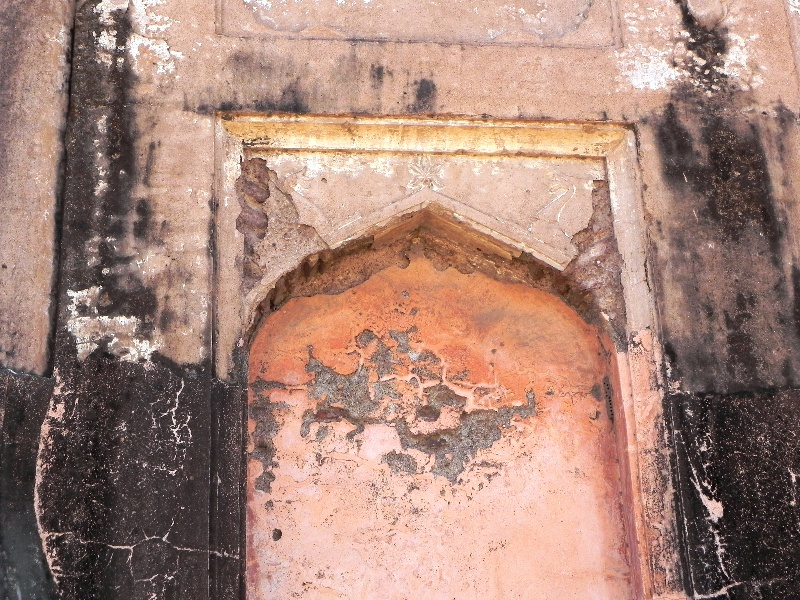Spalling: (497, 175, 641, 347), (267, 242, 372, 319), (226, 144, 264, 292)
